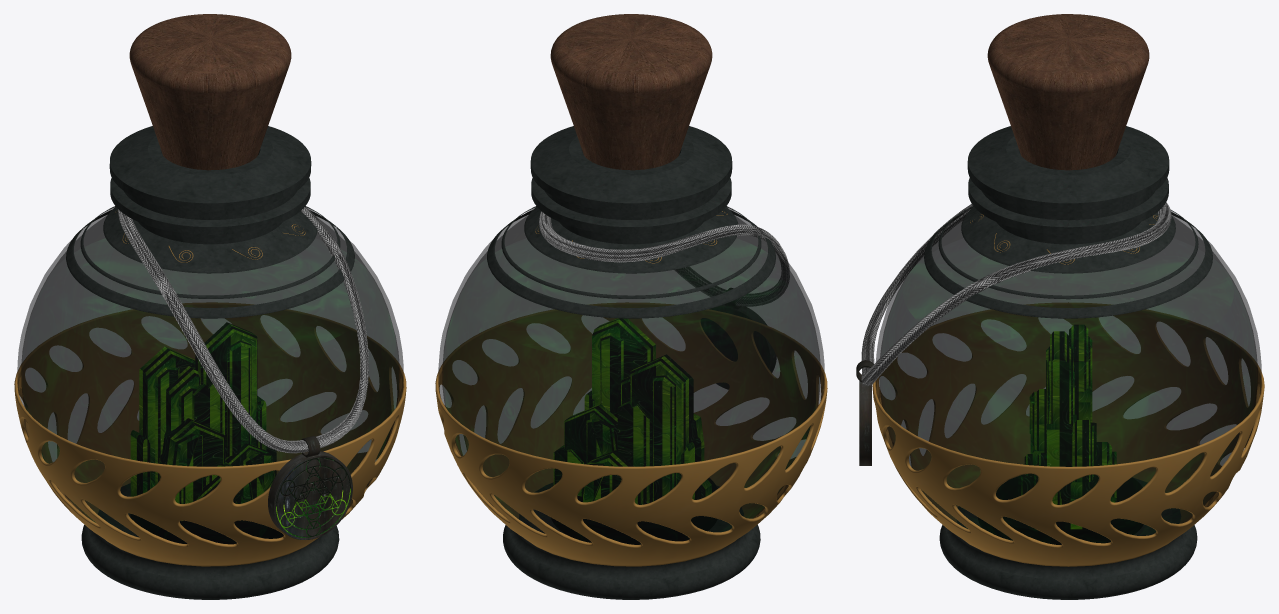
File: alchemical_potion.glb
The picture shows the model from 3 angles, left to right: view 1: azimuth 30°, elevation 25°; view 2: azimuth 150°, elevation 25°; view 3: azimuth 270°, elevation 25°; orthographic projection.
Parts seen in each view (by area): view 1: Frasco, Liquido, Detalhe em Dourado, Rolha, Boca do Frasco, Gema, object 10, object 7, Detalhes em preto, object 8, Detalhes em preto (2), object 14 (+2 smaller); view 2: Frasco, Detalhe em Dourado, Liquido, Rolha, Gema, Boca do Frasco, object 10, Detalhes em preto, object 7, Detalhes em preto (2), object 8, Gema (1) (+1 smaller); view 3: Frasco, Detalhe em Dourado, Liquido, Rolha, Boca do Frasco, object 10, Gema, object 7, Detalhes em preto, Detalhes em preto (2), Gema (1), Detalhes em preto (1) (+1 smaller).
Part boxes in pixels (box(x1,y1,x2,y2)): Frasco: box(17, 206, 403, 544); Liquido: box(22, 238, 398, 521); Detalhe em Dourado: box(14, 302, 406, 566); Rolha: box(129, 14, 291, 170); Boca do Frasco: box(109, 126, 311, 244); Gema: box(131, 322, 276, 503); object 10: box(81, 484, 339, 599); object 7: box(118, 207, 368, 453); Detalhes em preto: box(103, 206, 317, 273); object 8: box(268, 436, 352, 539); Detalhes em preto (2): box(66, 210, 354, 318); object 14: box(276, 457, 350, 537); Frasco: box(438, 206, 824, 544); Detalhe em Dourado: box(435, 302, 827, 566); Liquido: box(443, 238, 819, 525); Rolha: box(550, 14, 712, 170); Gema: box(554, 318, 711, 504); Boca do Frasco: box(530, 126, 732, 244); object 10: box(503, 483, 760, 599); Detalhes em preto: box(524, 206, 738, 273); object 7: box(539, 211, 789, 306); Detalhes em preto (2): box(487, 210, 775, 318); object 8: box(701, 288, 776, 389); Gema (1): box(551, 478, 717, 544); Frasco: box(875, 206, 1261, 544); Detalhe em Dourado: box(872, 302, 1264, 566); Liquido: box(880, 238, 1256, 528); Rolha: box(987, 14, 1149, 170); Boca do Frasco: box(967, 126, 1169, 244); object 10: box(939, 478, 1197, 599); Gema: box(1018, 325, 1116, 528); object 7: box(861, 202, 1171, 385); Detalhes em preto: box(961, 207, 1175, 273); Detalhes em preto (2): box(924, 212, 1212, 318); Gema (1): box(978, 476, 1143, 544); Detalhes em preto (1): box(938, 206, 1198, 299).
Size of the model in its own units: 0.1195 by 0.1717 by 0.1244.
Materials: 11 (10 with a texture image).
